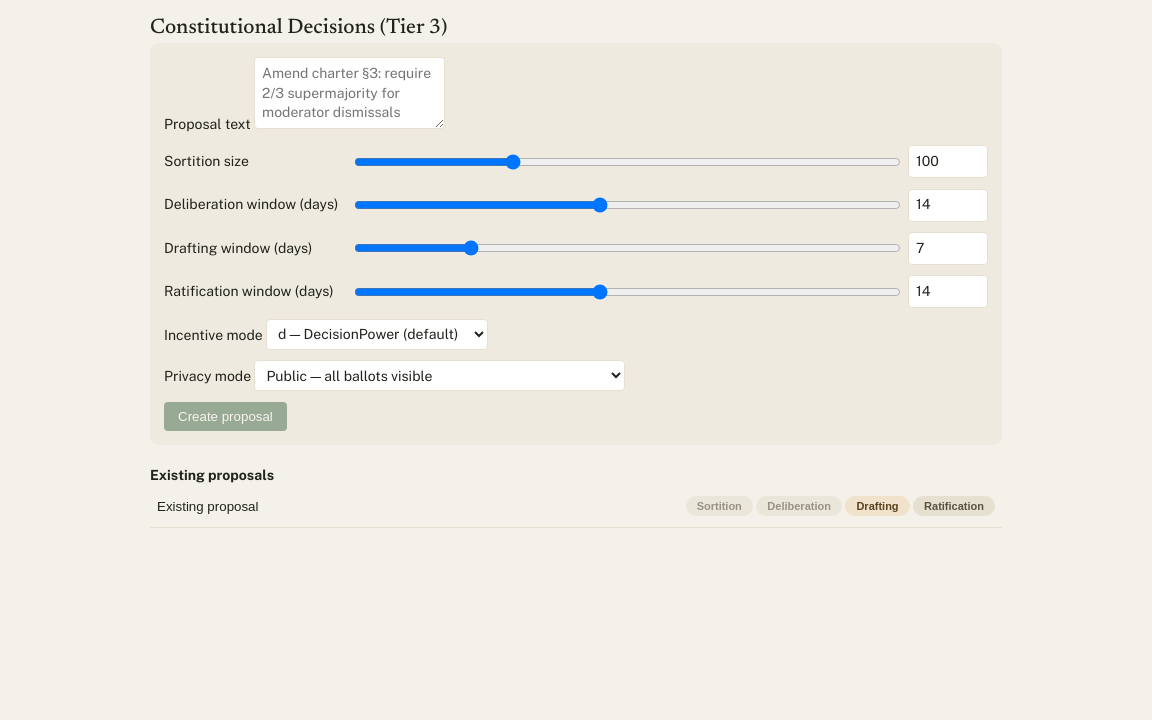
Test: Tier3ProposalPanel › renders the voided banner with a short hex reset id and suppresses the stage controls
Click the text "Existing proposal" at (208, 506), box [157, 498, 258, 514]
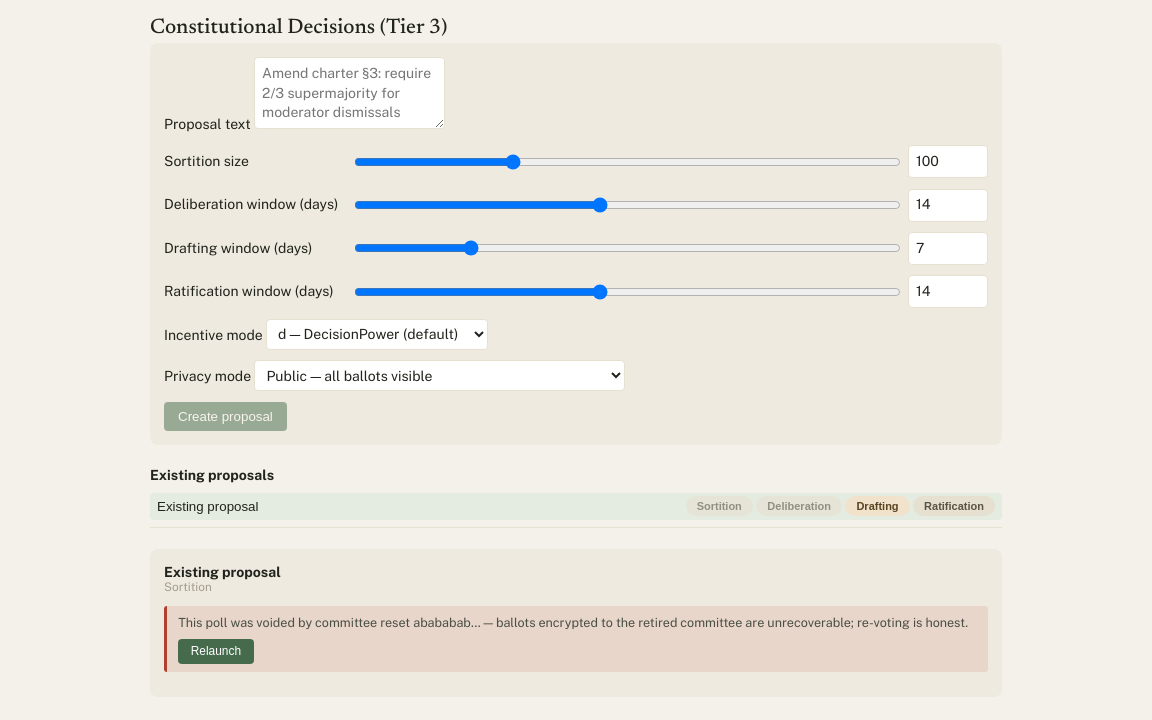
Result: the message with test id "voided-banner" shows "unrecoverable" at [178, 615, 968, 630]
Result: the message with test id "voided-banner" shows "re-voting is honest" at [178, 615, 968, 630]
